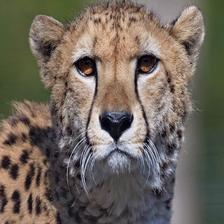Cheetah: (0, 0, 206, 222)
